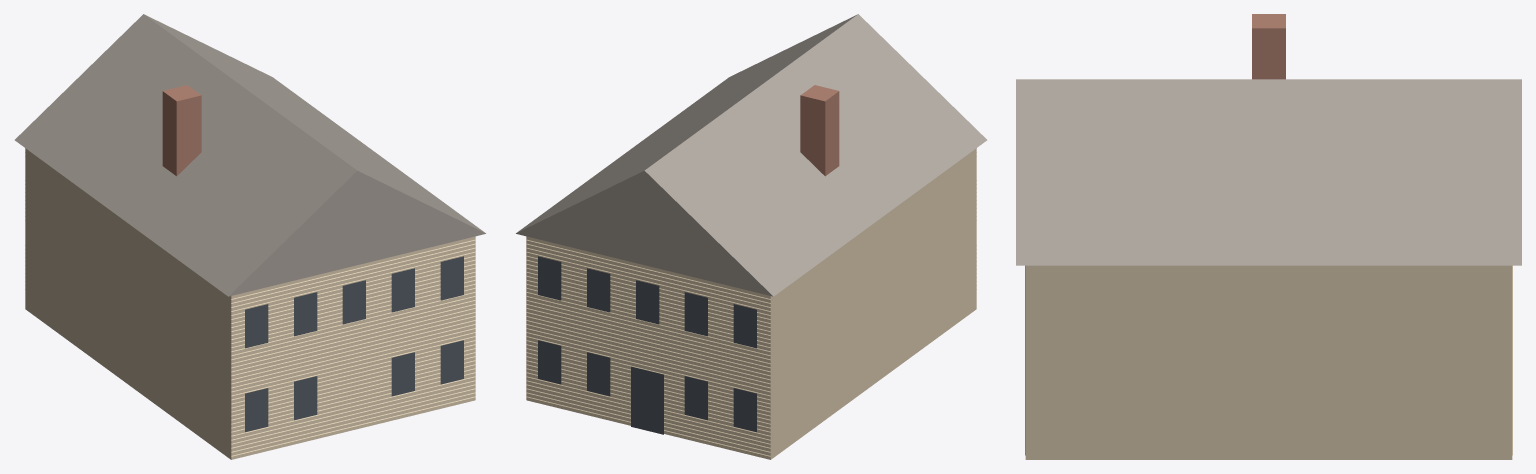
File: recon_1835_blk_south_water_dearborn_h3_07__inferred_1835.glb
The picture shows the model from 3 angles, left to right: view 1: azimuth 30°, elevation 25°; view 2: azimuth 150°, elevation 25°; view 3: azimuth 270°, elevation 25°; orthographic projection. The views are drawn at different scales.
Visible parts, largest first — view 1: recon_1835_blk_south_water_dearborn_h3_07__inferred_1835; view 2: recon_1835_blk_south_water_dearborn_h3_07__inferred_1835; view 3: recon_1835_blk_south_water_dearborn_h3_07__inferred_1835.
Part boxes in pixels (left/top/right/bottom): recon_1835_blk_south_water_dearborn_h3_07__inferred_1835: left=14, top=14, right=485, bottom=459; recon_1835_blk_south_water_dearborn_h3_07__inferred_1835: left=516, top=14, right=987, bottom=459; recon_1835_blk_south_water_dearborn_h3_07__inferred_1835: left=1016, top=14, right=1521, bottom=459.
Size of the model in its own units: 9.41 by 9.69 by 13.5.
